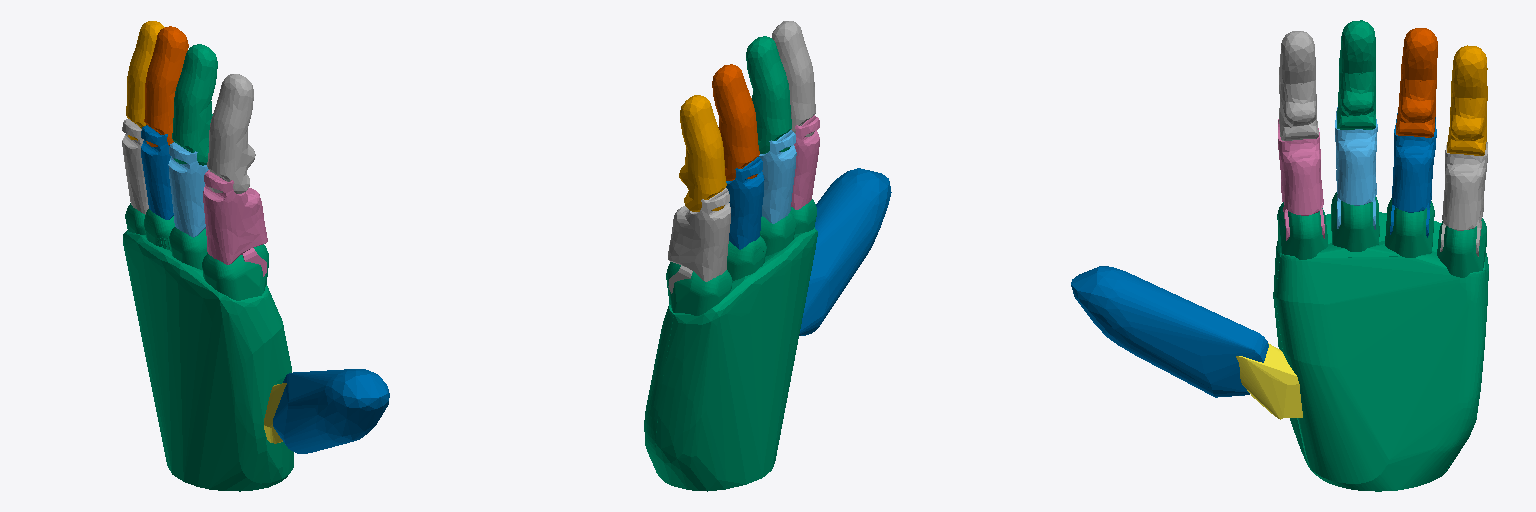
robot.urdf — ability_hand:
<?xml version='1.0' encoding='utf-8'?>
<robot name="ability_hand">
  <mujoco>
    <compiler balanceinertia="true" discardvisual="false" fusestatic="false" inertiafromgeom="false" />
  </mujoco>
  <link name="hand_root" />
  <joint name="hand_root_joint" type="fixed">
    <parent link="hand_root" />
    <child link="base" />
    <origin xyz="0 0 0" rpy="0 0 -1.57079" />
  </joint>
  <link name="base">
    <visual name="base_wristmesh_visual">
      <origin rpy="0 0 0" xyz="0 0 0" />
      <geometry>
        <mesh filename="meshes/visual/wristmesh.obj" />
      </geometry>
    </visual>
    <collision>
      <origin xyz="0 0 0" rpy="0 0 0" />
      <geometry>
        <mesh filename="meshes/collision/wristmesh_C_collision000.obj" />
      </geometry>
    </collision>
    <inertial>
      <mass value="0.200" />
      <inertia ixx="978.26e-6" ixy="87.34e-6" ixz="322.99e-6" iyy="1244.78e-6" iyz="244.74e-6" izz="456.22e-6" />
      <origin xyz="22.41911e-3 -0.15798201e-3 -0.01319866e-3" rpy="0 0 0" />
    </inertial>
  </link>
  <joint name="wrist2thumb" type="fixed">
    <parent link="base" />
    <child link="thumb_base" />
    <origin xyz="24.0476665e-3 3.78124745e-3 32.32964923e-3" rpy="3.14148426 0.08848813 3.14036612" />
  </joint>
  <link name="thumb_base">
    <inertial>
      <mass value="0.400" />
      <inertia ixx="978.26e-6" ixy="87.34e-6" ixz="322.99e-6" iyy="1244.78e-6" iyz="244.74e-6" izz="456.22e-6" />
      <origin xyz="22.41911e-3 -0.15798201e-3 -0.01319866e-3" rpy="0 0 0" />
    </inertial>
    <visual name="thumb_base_FB_palm_ref_visual">
      <origin rpy="0 0 0" xyz="0 0 0" />
      <geometry>
        <mesh filename="meshes/visual/FB_palm_ref.obj" />
      </geometry>
    </visual>
    <collision name="thumb_base_collision_part000">
      <origin xyz="0 0 0" rpy="0 0 0" />
      <geometry>
        <mesh filename="meshes/collision/FB_palm_ref_collision000.obj" />
      </geometry>
    </collision>
    <collision name="thumb_base_collision_part001">
      <origin xyz="0 0 0" rpy="0 0 0" />
      <geometry>
        <mesh filename="meshes/collision/FB_palm_ref_collision001.obj" />
      </geometry>
    </collision>
    <collision name="thumb_base_collision_part002">
      <origin xyz="0 0 0" rpy="0 0 0" />
      <geometry>
        <mesh filename="meshes/collision/FB_palm_ref_collision002.obj" />
      </geometry>
    </collision>
    <collision name="thumb_base_collision_part003">
      <origin xyz="0 0 0" rpy="0 0 0" />
      <geometry>
        <mesh filename="meshes/collision/FB_palm_ref_collision003.obj" />
      </geometry>
    </collision>
    <collision name="thumb_base_collision_part004">
      <origin xyz="0 0 0" rpy="0 0 0" />
      <geometry>
        <mesh filename="meshes/collision/FB_palm_ref_collision004.obj" />
      </geometry>
    </collision>
  </link>
  <link name="thumb_L1">
    <inertial>
      <mass value="0.00268342" />
      <inertia ixx="0.16931e-4" ixy="-0.076214e-4" ixz="-0.16959148e-4" iyy="0.77769934e-4" iyz="0.0156622e-4" izz="0.7249122e-4" />
      <origin rpy="0 0 0" xyz="14.606e-3 -1.890854e-3 -3.1155356e-3" />
    </inertial>
    <visual name="thumb_L1_thumb-F1_visual">
      <origin xyz="27.8283501e-3 0 -14.7507000e-3" rpy="4.450589592585541 0 0" />
      <geometry>
        <mesh filename="meshes/visual/thumb-F1.obj" />
      </geometry>
    </visual>
    <collision>
      <origin xyz="27.8283501e-3 0 -14.7507000e-3" rpy="4.450589592585541 0 0" />
      <geometry>
        <mesh filename="meshes/collision/thumb-F1_C_collision000.obj" />
      </geometry>
    </collision>
  </link>
  <link name="thumb_L2">
    <inertial>
      <mass value="0.0055" />
      <inertia ixx="4.4789082e-4" ixy="4.4789082e-4" ixz="-0.62144934e-4" iyy="15.600996e-4" iyz="-0.07466143e-4" izz="17.908554e-4" />
      <origin rpy="0 0 0" xyz="30.020522e-3 5.59476e-3 -4.1504356e-3" />
    </inertial>
    <visual name="thumb_L2_thumb-F2_visual">
      <origin xyz="65.18669e-3 23.34021e-3 -3.93483e-3" rpy="3.141592 0 0.343830" />
      <geometry>
        <mesh filename="meshes/visual/thumb-F2.obj" />
      </geometry>
    </visual>
    <collision>
      <origin xyz="65.18669e-3 23.34021e-3 -3.93483e-3" rpy="3.141592 0 0.343830" />
      <geometry>
        <mesh filename="meshes/collision/thumb-F2_C_collision000.obj" />
      </geometry>
    </collision>
  </link>
  <joint name="thumb_q1" type="revolute">
    <parent link="thumb_base" />
    <child link="thumb_L1" />
    <origin xyz="0 0 0" rpy="0 0 3.330437" />
    <axis xyz="0 0 1" />
    <limit lower="-2.0943951" upper="0" effort="1.2" velocity="40.338888721" />
    <dynamics damping="0.001" friction="0.001" />
  </joint>
  <joint name="thumb_q2" type="revolute">
    <parent link="thumb_L1" />
    <child link="thumb_L2" />
    <origin xyz="27.8283501e-3 0 -14.7507000e-3" rpy="4.450589592585541 0 0" />
    <axis xyz="0 0 1" />
    <limit lower="0" upper="2.0943951" effort="6.0" velocity="8.0677777442" />
    <dynamics damping="0.001" friction="0.001" />
  </joint>
  <link name="thumb_tip" />
  <joint name="thumb_tip_joint" type="fixed">
    <parent link="thumb_L2" />
    <child link="thumb_tip" />
    <origin rpy="0 0 0" xyz="0.065 0.016 0" />
  </joint>
  <link name="index_L1">
    <inertial>
      <mass value="0.00635888" />
      <inertia ixx="0.29766e-4" ixy="-0.06447133e-4" ixz="-0.00423315e-4" iyy="3.6947967e-4" iyz="0.00083028e-4" izz="3.8176336e-4" />
      <origin xyz="22.41911e-3 -0.15798201e-3 -0.01319866e-3" rpy="0 0 0" />
    </inertial>
    <visual name="index_L1_idx-F1_visual">
      <origin xyz="38.472723e-3 3.257695e-3 0.000000" rpy="0 0 0.084474" />
      <geometry>
        <mesh filename="meshes/visual/idx-F1.obj" />
      </geometry>
    </visual>
    <collision>
      <origin xyz="0.036 -0.00175 0" rpy="0 0 0" />
      <geometry>
        <sphere radius="0.0085" />
      </geometry>
    </collision>
    <collision>
      <origin xyz="0.019 -0.0045 0" rpy="0 0 0.0845" />
      <geometry>
        <box size="0.028 0.012 0.016" />
      </geometry>
    </collision>
    <collision>
      <origin xyz="0.018 0.006 0" rpy="0 0 0.0845" />
      <geometry>
        <box size="0.02 0.01 0.016" />
      </geometry>
    </collision>
    <collision>
      <origin xyz="-0.001 0 0.007" rpy="0 0 0.0845" />
      <geometry>
        <box size="0.012 0.012 0.002" />
      </geometry>
    </collision>
    <collision>
      <origin xyz="-0.001 0 -0.007" rpy="0 0 0.0845" />
      <geometry>
        <box size="0.012 0.012 0.002" />
      </geometry>
    </collision>
  </link>
  <link name="index_L2">
    <inertial>
      <mass value="0.00645" />
      <inertia ixx="0.82671e-4" ixy="-1.08876e-4" ixz="-0.00037e-4" iyy="1.98028e-4" iyz="0.00081e-4" izz="2.64638e-4" />
      <origin rpy="0 0 0" xyz="13.36818e-3 -8.75392e-3 -0.02886e-3" />
    </inertial>
    <visual name="index_L2_idx-F2_visual">
      <origin rpy="0 0 0" xyz="9.1241e-3 0 0" />
      <geometry>
        <mesh filename="meshes/visual/idx-F2.obj" />
      </geometry>
    </visual>
    <collision name="index_L2_collision_part000">
      <origin xyz="0 0 0" rpy="0 0 0" />
      <geometry>
        <mesh filename="meshes/collision/idx-F2_C_collision000.obj" />
      </geometry>
    </collision>
    <collision name="index_L2_collision_part001">
      <origin xyz="0 0 0" rpy="0 0 0" />
      <geometry>
        <mesh filename="meshes/collision/idx-F2_C_collision001.obj" />
      </geometry>
    </collision>
    <collision name="index_L2_collision_part002">
      <origin xyz="0 0 0" rpy="0 0 0" />
      <geometry>
        <mesh filename="meshes/collision/idx-F2_C_collision002.obj" />
      </geometry>
    </collision>
    <collision name="index_L2_collision_part003">
      <origin xyz="0 0 0" rpy="0 0 0" />
      <geometry>
        <mesh filename="meshes/collision/idx-F2_C_collision003.obj" />
      </geometry>
    </collision>
    <collision>
      <origin xyz="0.03 -0.016 0" rpy="0 0 0" />
      <geometry>
        <sphere radius="0.007" />
      </geometry>
    </collision>
  </link>
  <joint name="index_q1" type="revolute">
    <parent link="thumb_base" />
    <child link="index_L1" />
    <origin xyz="-9.49e-3 -13.04e-3 -62.95e-3" rpy="-1.982050 1.284473 -2.090591" />
    <axis xyz="0 0 1" />
    <limit lower="0" upper="2.0943951" effort="6.0" velocity="8.0677777442" />
    <dynamics damping="0.001" friction="0.001" />
  </joint>
  <joint name="index_q2" type="revolute">
    <parent link="index_L1" />
    <child link="index_L2" />
    <origin xyz="38.472723e-3 3.257695e-3 0.000000e-3" rpy="0 0 0.084474" />
    <axis xyz="0 0 1" />
    <limit lower="0.0" upper="2.6586" effort="6.0" velocity="8.0677777442" />
    <dynamics damping="0.001" friction="0.001" />
    <mimic joint="index_q1" multiplier="1.05851325" offset="0.72349796" />
  </joint>
  <link name="index_tip" />
  <joint name="index_tip_joint" type="fixed">
    <parent link="index_L2" />
    <child link="index_tip" />
    <origin rpy="0 0 0" xyz="0.035  -0.018 0" />
  </joint>
  <link name="middle_L1">
    <inertial>
      <mass value="0.00635888" />
      <inertia ixx="0.29766e-4" ixy="-0.06447133e-4" ixz="-0.00423315e-4" iyy="3.6947967e-4" iyz="0.00083028e-4" izz="3.8176336e-4" />
      <origin xyz="22.41911e-3 -0.15798201e-3 -0.01319866e-3" rpy="0 0 0" />
    </inertial>
    <visual name="middle_L1_idx-F1_visual">
      <origin xyz="38.472723e-3 3.257695e-3 0.000000" rpy="0 0 0.084474" />
      <geometry>
        <mesh filename="meshes/visual/idx-F1.obj" />
      </geometry>
    </visual>
    <collision>
      <origin xyz="0.036 -0.00175 0" rpy="0 0 0" />
      <geometry>
        <sphere radius="0.0085" />
      </geometry>
    </collision>
    <collision>
      <origin xyz="0.019 -0.0045 0" rpy="0 0 0.0845" />
      <geometry>
        <box size="0.028 0.012 0.016" />
      </geometry>
    </collision>
    <collision>
      <origin xyz="0.018 0.006 0" rpy="0 0 0.0845" />
      <geometry>
        <box size="0.02 0.01 0.016" />
      </geometry>
    </collision>
    <collision>
      <origin xyz="-0.001 0 0.007" rpy="0 0 0.0845" />
      <geometry>
        <box size="0.012 0.012 0.002" />
      </geometry>
    </collision>
    <collision>
      <origin xyz="-0.001 0 -0.007" rpy="0 0 0.0845" />
      <geometry>
        <box size="0.012 0.012 0.002" />
      </geometry>
    </collision>
  </link>
  <link name="middle_L2">
    <inertial>
      <mass value="0.00645" />
      <inertia ixx="0.82671e-4" ixy="-1.08876e-4" ixz="-0.00037e-4" iyy="1.98028e-4" iyz="0.00081e-4" izz="2.64638e-4" />
      <origin rpy="0 0 0" xyz="13.36818e-3 -8.75392e-3 -0.02886e-3" />
    </inertial>
    <visual name="middle_L2_idx-F2_visual">
      <origin rpy="0 0 0" xyz="9.1241e-3 0 0" />
      <geometry>
        <mesh filename="meshes/visual/idx-F2.obj" />
      </geometry>
    </visual>
    <collision name="middle_L2_collision_part000">
      <origin xyz="0 0 0" rpy="0 0 0" />
      <geometry>
        <mesh filename="meshes/collision/idx-F2_C_collision000.obj" />
      </geometry>
    </collision>
    <collision name="middle_L2_collision_part001">
      <origin xyz="0 0 0" rpy="0 0 0" />
      <geometry>
        <mesh filename="meshes/collision/idx-F2_C_collision001.obj" />
      </geometry>
    </collision>
    <collision name="middle_L2_collision_part002">
      <origin xyz="0 0 0" rpy="0 0 0" />
      <geometry>
        <mesh filename="meshes/collision/idx-F2_C_collision002.obj" />
      </geometry>
    </collision>
    <collision name="middle_L2_collision_part003">
      <origin xyz="0 0 0" rpy="0 0 0" />
      <geometry>
        <mesh filename="meshes/collision/idx-F2_C_collision003.obj" />
      </geometry>
    </collision>
    <collision>
      <origin xyz="0.03 -0.016 0" rpy="0 0 0" />
      <geometry>
        <sphere radius="0.007" />
      </geometry>
    </collision>
  </link>
  <joint name="middle_q1" type="revolute">
    <parent link="thumb_base" />
    <child link="middle_L1" />
    <origin xyz="9.653191e-3 -15.310271e-3 -67.853949e-3" rpy="-1.860531 1.308458 -1.896217" />
    <limit lower="0" upper="2.0943951" effort="6.0" velocity="8.0677777442" />
    <dynamics damping="0.001" friction="0.001" />
    <axis xyz="0 0 1" />
  </joint>
  <joint name="middle_q2" type="revolute">
    <parent link="middle_L1" />
    <child link="middle_L2" />
    <origin xyz="38.472723e-3 3.257695e-3 0.000000" rpy="0 0 0.084474" />
    <axis xyz="0 0 1" />
    <limit lower="0.0" upper="2.6586" effort="6.0" velocity="8.0677777442" />
    <dynamics damping="0.001" friction="0.001" />
    <mimic joint="middle_q1" multiplier="1.05851325" offset="0.72349796" />
  </joint>
  <link name="middle_tip" />
  <joint name="middle_tip_joint" type="fixed">
    <parent link="middle_L2" />
    <child link="middle_tip" />
    <origin rpy="0 0 0" xyz="0.035  -0.018 0" />
  </joint>
  <link name="ring_L1">
    <inertial>
      <mass value="0.00635888" />
      <inertia ixx="0.29766e-4" ixy="-0.06447133e-4" ixz="-0.00423315e-4" iyy="3.6947967e-4" iyz="0.00083028e-4" izz="3.8176336e-4" />
      <origin xyz="22.41911e-3 -0.15798201e-3 -0.01319866e-3" rpy="0 0 0" />
    </inertial>
    <visual name="ring_L1_idx-F1_visual">
      <origin xyz="38.472723e-3 3.257695e-3 0.000000" rpy="0 0 0.084474" />
      <geometry>
        <mesh filename="meshes/visual/idx-F1.obj" />
      </geometry>
    </visual>
    <collision>
      <origin xyz="0.036 -0.00175 0" rpy="0 0 0" />
      <geometry>
        <sphere radius="0.0085" />
      </geometry>
    </collision>
    <collision>
      <origin xyz="0.019 -0.0045 0" rpy="0 0 0.0845" />
      <geometry>
        <box size="0.028 0.012 0.016" />
      </geometry>
    </collision>
    <collision>
      <origin xyz="0.018 0.006 0" rpy="0 0 0.0845" />
      <geometry>
        <box size="0.02 0.01 0.016" />
      </geometry>
    </collision>
    <collision>
      <origin xyz="-0.001 0 0.007" rpy="0 0 0.0845" />
      <geometry>
        <box size="0.012 0.012 0.002" />
      </geometry>
    </collision>
    <collision>
      <origin xyz="-0.001 0 -0.007" rpy="0 0 0.0845" />
      <geometry>
        <box size="0.012 0.012 0.002" />
      </geometry>
    </collision>
  </link>
  <link name="ring_L2">
    <inertial>
      <mass value="0.00645" />
      <inertia ixx="0.82671e-4" ixy="-1.08876e-4" ixz="-0.00037e-4" iyy="1.98028e-4" iyz="0.00081e-4" izz="2.64638e-4" />
      <origin rpy="0 0 0" xyz="13.36818e-3 -8.75392e-3 -0.02886e-3" />
    </inertial>
    <visual name="ring_L2_idx-F2_visual">
      <origin rpy="0 0 0" xyz="9.1241e-3 0 0" />
      <geometry>
        <mesh filename="meshes/visual/idx-F2.obj" />
      </geometry>
    </visual>
    <collision name="ring_L2_collision_part000">
      <origin xyz="0 0 0" rpy="0 0 0" />
      <geometry>
        <mesh filename="meshes/collision/idx-F2_C_collision000.obj" />
      </geometry>
    </collision>
    <collision name="ring_L2_collision_part001">
      <origin xyz="0 0 0" rpy="0 0 0" />
      <geometry>
        <mesh filename="meshes/collision/idx-F2_C_collision001.obj" />
      </geometry>
    </collision>
    <collision name="ring_L2_collision_part002">
      <origin xyz="0 0 0" rpy="0 0 0" />
      <geometry>
        <mesh filename="meshes/collision/idx-F2_C_collision002.obj" />
      </geometry>
    </collision>
    <collision name="ring_L2_collision_part003">
      <origin xyz="0 0 0" rpy="0 0 0" />
      <geometry>
        <mesh filename="meshes/collision/idx-F2_C_collision003.obj" />
      </geometry>
    </collision>
    <collision>
      <origin xyz="0.03 -0.016 0" rpy="0 0 0" />
      <geometry>
        <sphere radius="0.007" />
      </geometry>
    </collision>
  </link>
  <joint name="ring_q1" type="revolute">
    <parent link="thumb_base" />
    <child link="ring_L1" />
    <origin xyz="29.954260e-3 -14.212492e-3 -67.286105e-3" rpy="-1.716598 1.321452 -1.675862" />
    <limit lower="0" upper="2.0943951" effort="6.0" velocity="8.0677777442" />
    <dynamics damping="0.001" friction="0.001" />
    <axis xyz="0 0 1" />
  </joint>
  <joint name="ring_q2" type="revolute">
    <parent link="ring_L1" />
    <child link="ring_L2" />
    <origin xyz="38.472723e-3 3.257695e-3 0.000000" rpy="0 0 0.084474" />
    <axis xyz="0 0 1" />
    <limit lower="0.0" upper="2.6586" effort="6.0" velocity="8.0677777442" />
    <dynamics damping="0.001" friction="0.001" />
    <mimic joint="ring_q1" multiplier="1.05851325" offset="0.72349796" />
  </joint>
  <link name="ring_tip" />
  <joint name="ring_tip_joint" type="fixed">
    <parent link="ring_L2" />
    <child link="ring_tip" />
    <origin rpy="0 0 0" xyz="0.035  -0.018 0" />
  </joint>
  <link name="pinky_L1">
    <inertial>
      <mass value="0.00635888" />
      <inertia ixx="0.29766e-4" ixy="-0.06447133e-4" ixz="-0.00423315e-4" iyy="3.6947967e-4" iyz="0.00083028e-4" izz="3.8176336e-4" />
      <origin xyz="22.41911e-3 -0.15798201e-3 -0.01319866e-3" rpy="0 0 0" />
    </inertial>
    <visual name="pinky_L1_idx-F1_visual">
      <origin xyz="38.472723e-3 3.257695e-3 0.000000" rpy="0 0 0.084474" />
      <geometry>
        <mesh filename="meshes/visual/idx-F1.obj" />
      </geometry>
    </visual>
    <collision>
      <origin xyz="0.036 -0.00175 0" rpy="0 0 0" />
      <geometry>
        <sphere radius="0.0085" />
      </geometry>
    </collision>
    <collision>
      <origin xyz="0.019 -0.0045 0" rpy="0 0 0.0845" />
      <geometry>
        <box size="0.028 0.012 0.016" />
      </geometry>
    </collision>
    <collision>
      <origin xyz="0.018 0.006 0" rpy="0 0 0.0845" />
      <geometry>
        <box size="0.02 0.01 0.016" />
      </geometry>
    </collision>
    <collision>
      <origin xyz="-0.001 0 0.007" rpy="0 0 0.0845" />
      <geometry>
        <box size="0.012 0.012 0.002" />
      </geometry>
    </collision>
    <collision>
      <origin xyz="-0.001 0 -0.007" rpy="0 0 0.0845" />
      <geometry>
        <box size="0.012 0.012 0.002" />
      </geometry>
    </collision>
  </link>
  <link name="pinky_L2">
    <inertial>
      <mass value="0.00645" />
      <inertia ixx="0.82671e-4" ixy="-1.08876e-4" ixz="-0.00037e-4" iyy="1.98028e-4" iyz="0.00081e-4" izz="2.64638e-4" />
      <origin rpy="0 0 0" xyz="13.36818e-3 -8.75392e-3 -0.02886e-3" />
    </inertial>
    <visual name="pinky_L2_idx-F2_visual">
      <origin rpy="0 0 0" xyz="9.1241e-3 0 0" />
      <geometry>
        <mesh filename="meshes/visual/idx-F2.obj" />
      </geometry>
    </visual>
    <collision name="pinky_L2_collision_part000">
      <origin xyz="0 0 0" rpy="0 0 0" />
      <geometry>
        <mesh filename="meshes/collision/idx-F2_C_collision000.obj" />
      </geometry>
    </collision>
    <collision name="pinky_L2_collision_part001">
      <origin xyz="0 0 0" rpy="0 0 0" />
      <geometry>
        <mesh filename="meshes/collision/idx-F2_C_collision001.obj" />
      </geometry>
    </collision>
    <collision name="pinky_L2_collision_part002">
      <origin xyz="0 0 0" rpy="0 0 0" />
      <geometry>
        <mesh filename="meshes/collision/idx-F2_C_collision002.obj" />
      </geometry>
    </collision>
    <collision name="pinky_L2_collision_part003">
      <origin xyz="0 0 0" rpy="0 0 0" />
      <geometry>
        <mesh filename="meshes/collision/idx-F2_C_collision003.obj" />
      </geometry>
    </collision>
    <collision>
      <origin xyz="0.03 -0.016 0" rpy="0 0 0" />
      <geometry>
        <sphere radius="0.007" />
      </geometry>
    </collision>
  </link>
  <joint name="pinky_q1" type="revolute">
    <parent link="thumb_base" />
    <child link="pinky_L1" />
    <origin xyz="49.521293e-3 -11.004583e-3 -63.029065e-3" rpy="-1.765110 1.322220 -1.658383" />
    <limit lower="0" upper="2.0943951" effort="6.0" velocity="8.0677777442" />
    <dynamics damping="0.001" friction="0.001" />
    <axis xyz="0 0 1" />
  </joint>
  <joint name="pinky_q2" type="revolute">
    <parent link="pinky_L1" />
    <child link="pinky_L2" />
    <origin xyz="38.472723e-3 3.257695e-3 0.000000" rpy="0 0 0.084474" />
    <limit lower="0.0" upper="2.6586" effort="6.0" velocity="8.0677777442" />
    <dynamics damping="0.001" friction="0.001" />
    <axis xyz="0 0 1" />
    <mimic joint="pinky_q1" multiplier="1.05851325" offset="0.72349796" />
  </joint>
  <link name="pinky_tip" />
  <joint name="pinky_tip_joint" type="fixed">
    <parent link="pinky_L2" />
    <child link="pinky_tip" />
    <origin rpy="0 0 0" xyz="0.035  -0.018 0" />
  </joint>
</robot>

--- What the picture shows (computed from the rendered views, not written in the file) ---
The picture shows the robot from 3 angles, left to right: view 1: azimuth 30°, elevation 25°; view 2: azimuth 150°, elevation 25°; view 3: azimuth 270°, elevation 25°; orthographic projection.
Model ability_hand with 18 links and 17 joints (10 revolute, 7 fixed), rooted at hand_root, posed every joint at zero.
Links seen in each view (by area): view 1: thumb_base, thumb_L2, index_L1, index_L2, middle_L2, ring_L2, middle_L1, ring_L1, pinky_L2, pinky_L1, thumb_L1; view 2: thumb_base, thumb_L2, pinky_L1, pinky_L2, ring_L2, middle_L2, index_L2, ring_L1, middle_L1, index_L1; view 3: thumb_base, thumb_L2, middle_L2, index_L2, pinky_L2, ring_L2, index_L1, pinky_L1, middle_L1, ring_L1, thumb_L1.
Link boxes in pixels (x1,y1,x2,y2): thumb_base: (123, 203, 293, 491); thumb_L2: (273, 369, 389, 453); index_L1: (203, 170, 267, 276); index_L2: (207, 74, 255, 193); middle_L2: (172, 44, 217, 165); ring_L2: (144, 26, 188, 146); middle_L1: (168, 142, 208, 237); ring_L1: (141, 125, 173, 219); pinky_L2: (126, 21, 164, 140); pinky_L1: (122, 119, 148, 214); thumb_L1: (264, 383, 286, 443); thumb_base: (644, 199, 817, 491); thumb_L2: (799, 168, 891, 335); pinky_L1: (668, 188, 730, 293); pinky_L2: (679, 95, 726, 211); ring_L2: (712, 64, 759, 180); middle_L2: (746, 36, 791, 153); index_L2: (772, 21, 815, 136); ring_L1: (726, 157, 764, 249); middle_L1: (759, 130, 796, 223); index_L1: (791, 115, 819, 209); thumb_base: (1273, 192, 1488, 491); thumb_L2: (1071, 266, 1268, 397); middle_L2: (1337, 20, 1375, 129); index_L2: (1279, 31, 1318, 140); pinky_L2: (1447, 45, 1487, 155); ring_L2: (1396, 28, 1437, 137); index_L1: (1278, 119, 1324, 240); pinky_L1: (1440, 142, 1487, 256); middle_L1: (1335, 107, 1377, 229); ring_L1: (1390, 113, 1436, 237); thumb_L1: (1236, 343, 1302, 419).
Size in the robot's own frame: 0.053 by 0.1565 by 0.1778 metres.
Meshes: 6 distinct files referenced, 12 mesh visuals loaded (6 OBJ).
